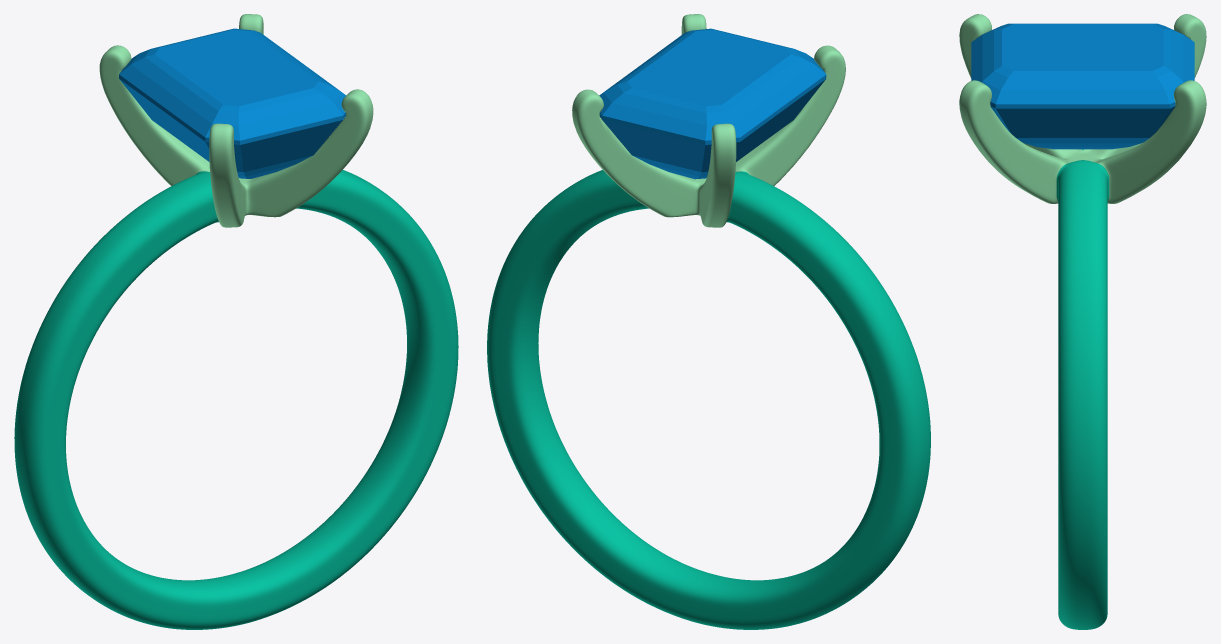
File: BE101_EM_200ct_RENDER.glb
3 views of the same model, side by side, from view 1: azimuth 30°, elevation 25°; view 2: azimuth 150°, elevation 25°; view 3: azimuth 270°, elevation 25° (orthographic).
Visible parts, largest first — view 1: Metal 01, CS_Diamond_Emerald, Metal 02; view 2: Metal 01, CS_Diamond_Emerald, Metal 02; view 3: CS_Diamond_Emerald, Metal 01, Metal 02.
Part boxes in pixels (x1=…): Metal 01: x1=14, y1=170, x2=458, y2=629; CS_Diamond_Emerald: x1=119, y1=28, x2=345, y2=178; Metal 02: x1=99, y1=14, x2=373, y2=227; Metal 01: x1=487, y1=170, x2=930, y2=629; CS_Diamond_Emerald: x1=599, y1=28, x2=826, y2=179; Metal 02: x1=572, y1=14, x2=845, y2=227; CS_Diamond_Emerald: x1=971, y1=23, x2=1194, y2=149; Metal 01: x1=1056, y1=149, x2=1109, y2=629; Metal 02: x1=959, y1=14, x2=1206, y2=203.
Size of the model in its own units: 20.38 by 24.86 by 9.98.
